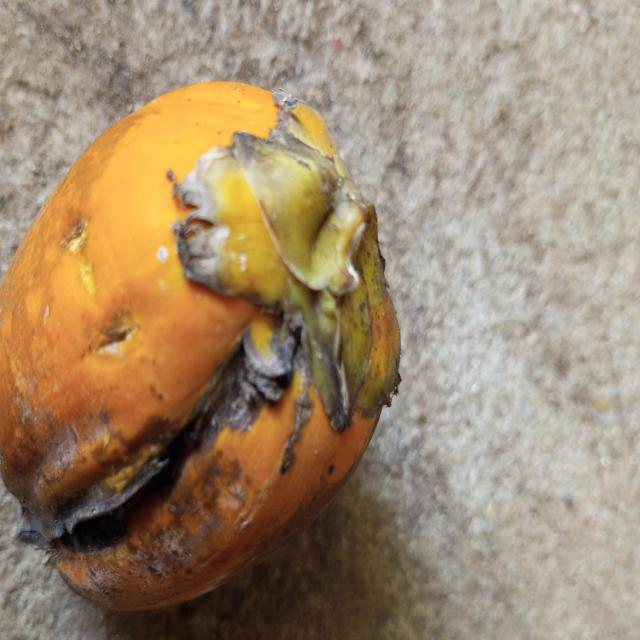damaged: (0, 82, 400, 609)
